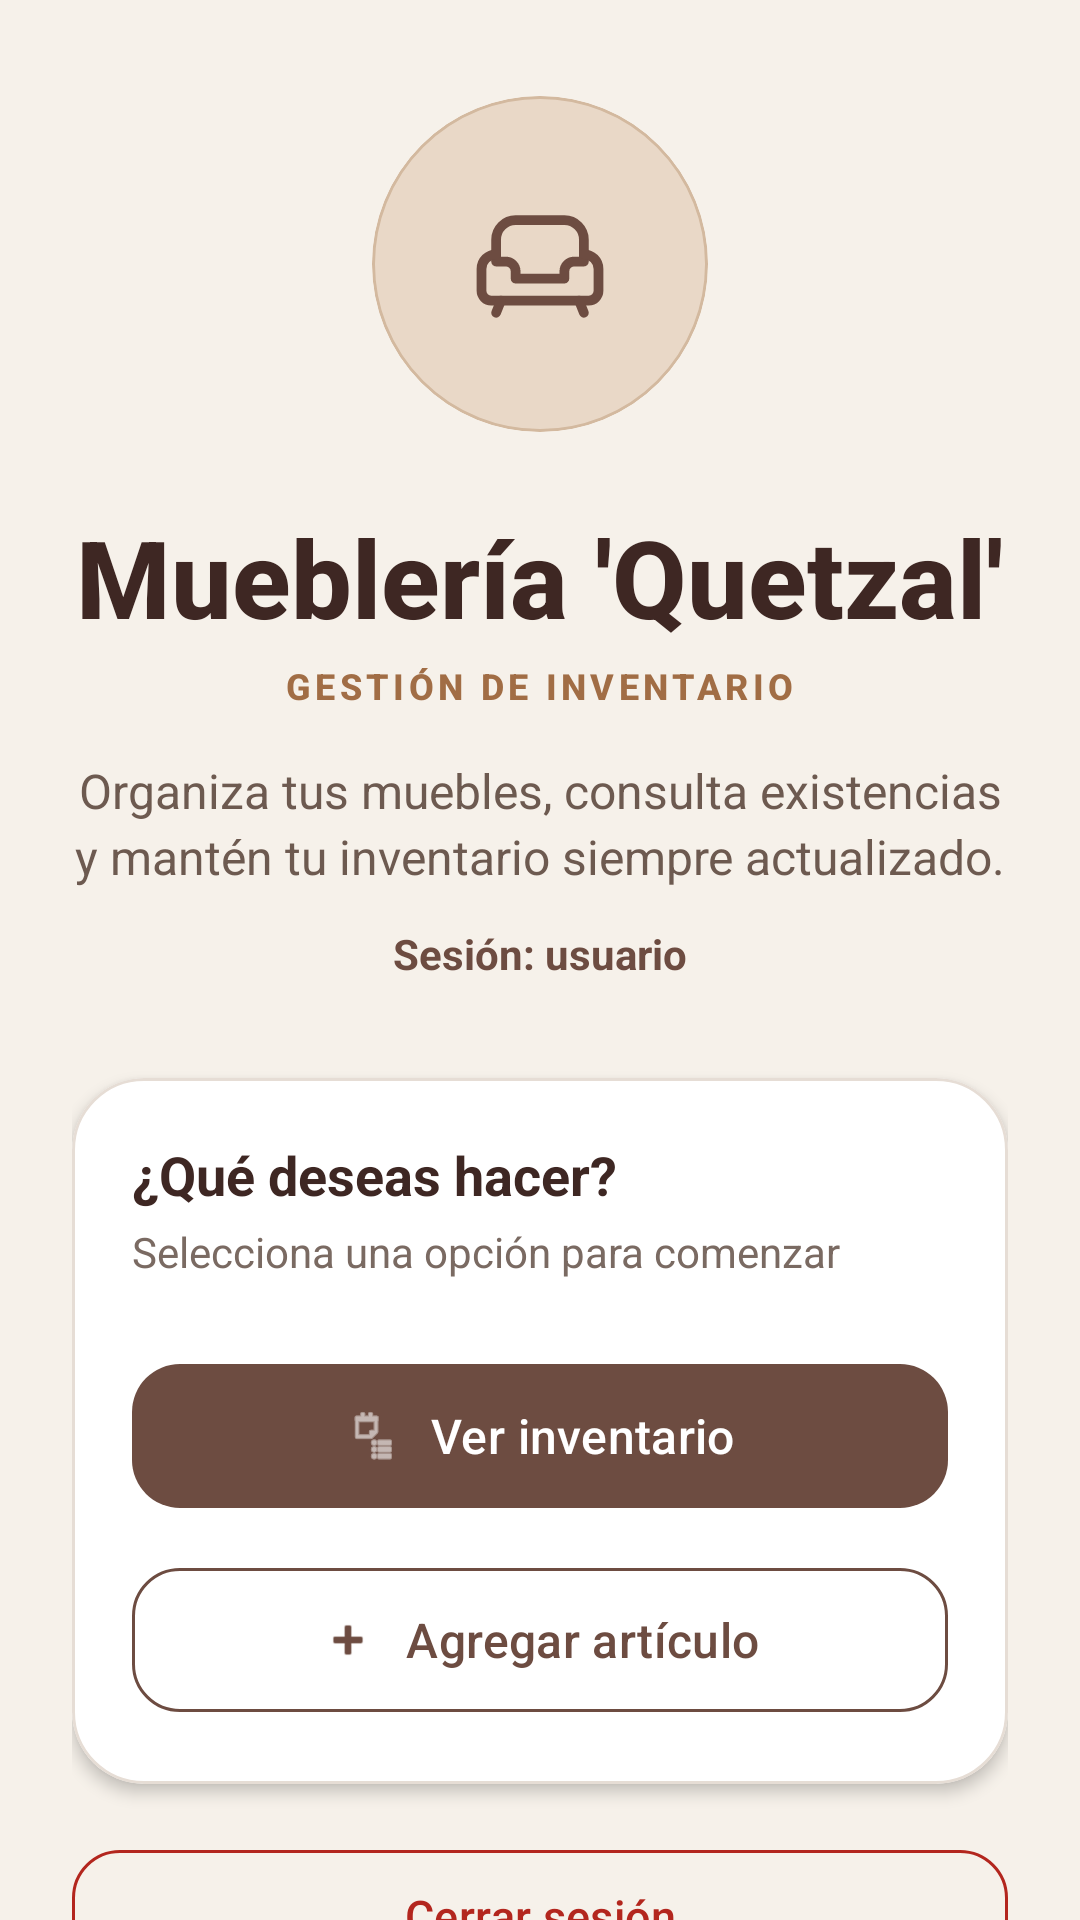

Screen size 1080*1920. Icon name, then its box in pixels as (x1, y1, x2, y2):
Icono de la mueblería: (372, 96, 708, 432)
